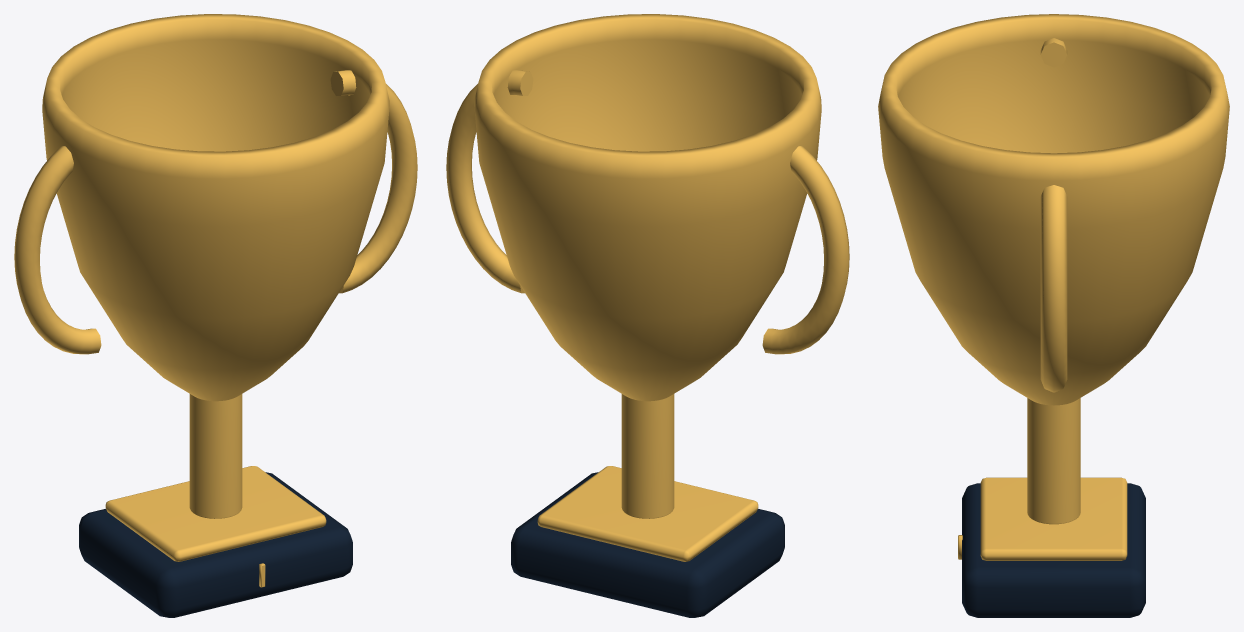
The model's file is trophy.glb.
3 renders of one model, left to right at view 1: azimuth 30°, elevation 25°; view 2: azimuth 150°, elevation 25°; view 3: azimuth 270°, elevation 25°, orthographic.
Parts seen in each view (by area): view 1: trophy / consolidated CC0 mesh; view 2: trophy / consolidated CC0 mesh; view 3: trophy / consolidated CC0 mesh.
Part boxes in pixels (box(x1,y1,x2,y2)): trophy / consolidated CC0 mesh: box(14, 14, 417, 617); trophy / consolidated CC0 mesh: box(446, 14, 849, 617); trophy / consolidated CC0 mesh: box(878, 14, 1229, 617).
Size of the model in its own units: 0.42 by 0.485 by 0.316.
